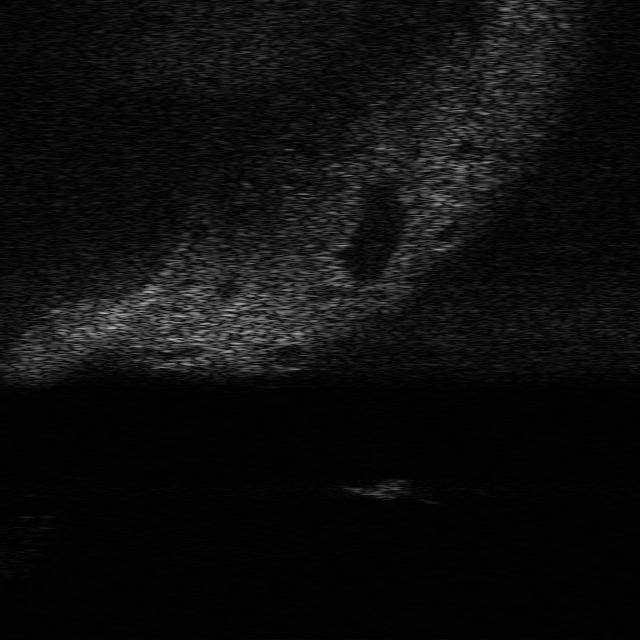cube: (335, 470, 409, 499)
